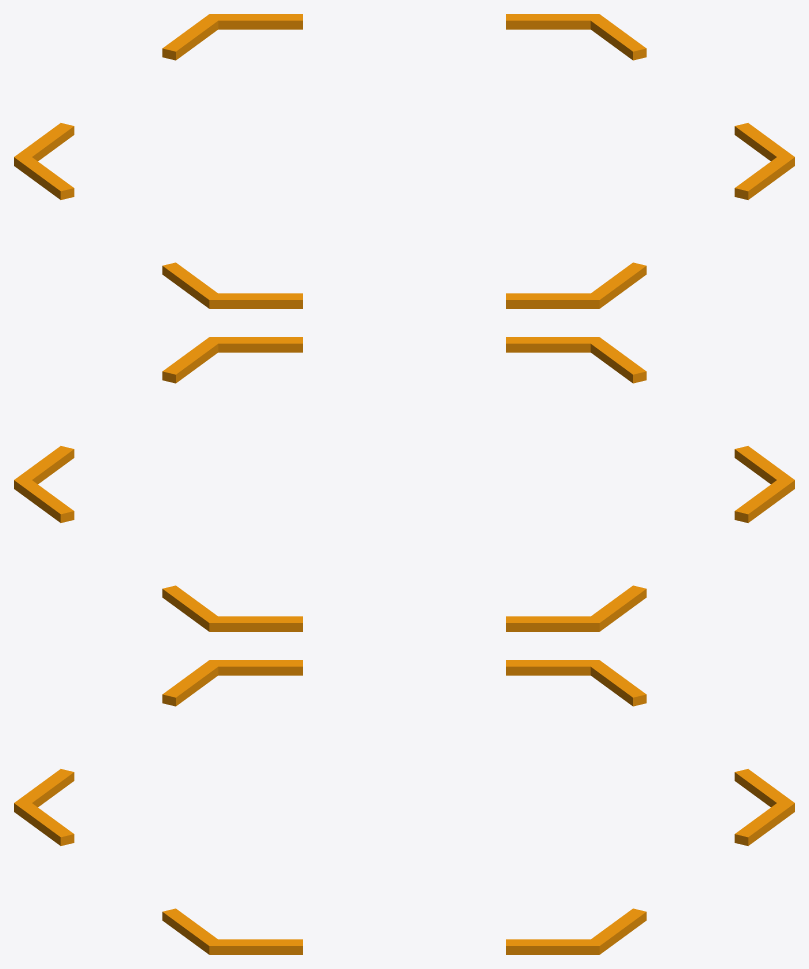
Rendered from stellar_high_light.glb.
3 renders of one model, top to bottom at view 1: azimuth 30°, elevation 25°; view 2: azimuth 150°, elevation 25°; view 3: azimuth 270°, elevation 25°, orthographic.
Parts seen in each view (by area): view 1: Cylinder.001; view 2: Cylinder.001; view 3: Cylinder.001.
Part boxes in pixels (x1,y1,x2,y2): Cylinder.001: (14, 14, 794, 308); Cylinder.001: (14, 337, 794, 631); Cylinder.001: (14, 660, 794, 954).
Bounding box in the file's own units: 17.32 × 0.25 × 20.
